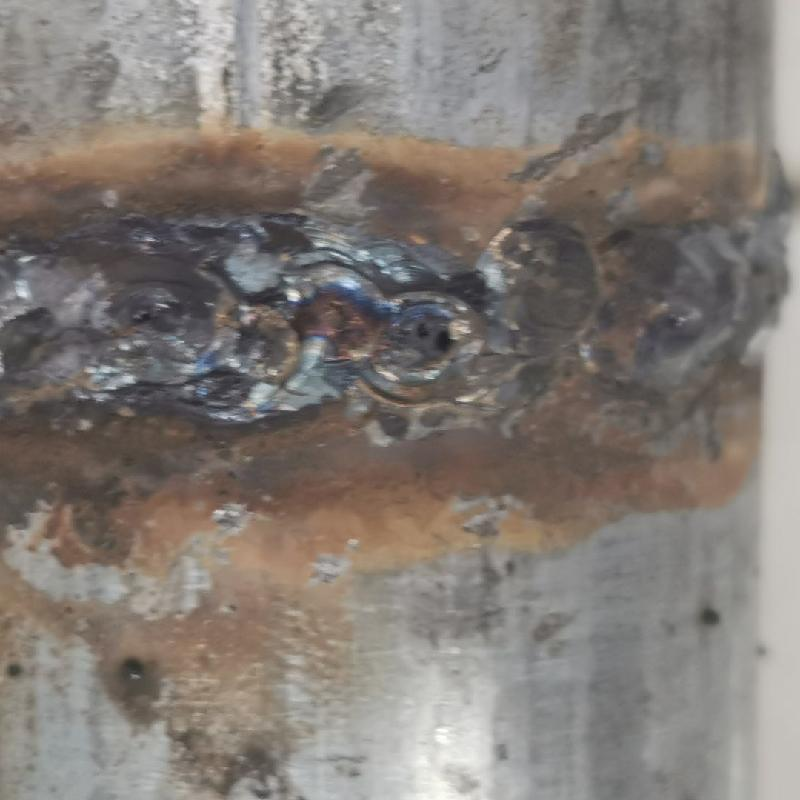Surface_pores: (408, 309, 468, 366), (117, 291, 177, 342)
crater: (4, 255, 471, 415), (485, 205, 792, 380)
